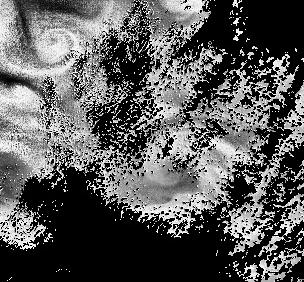CE: (27, 23, 81, 77)
